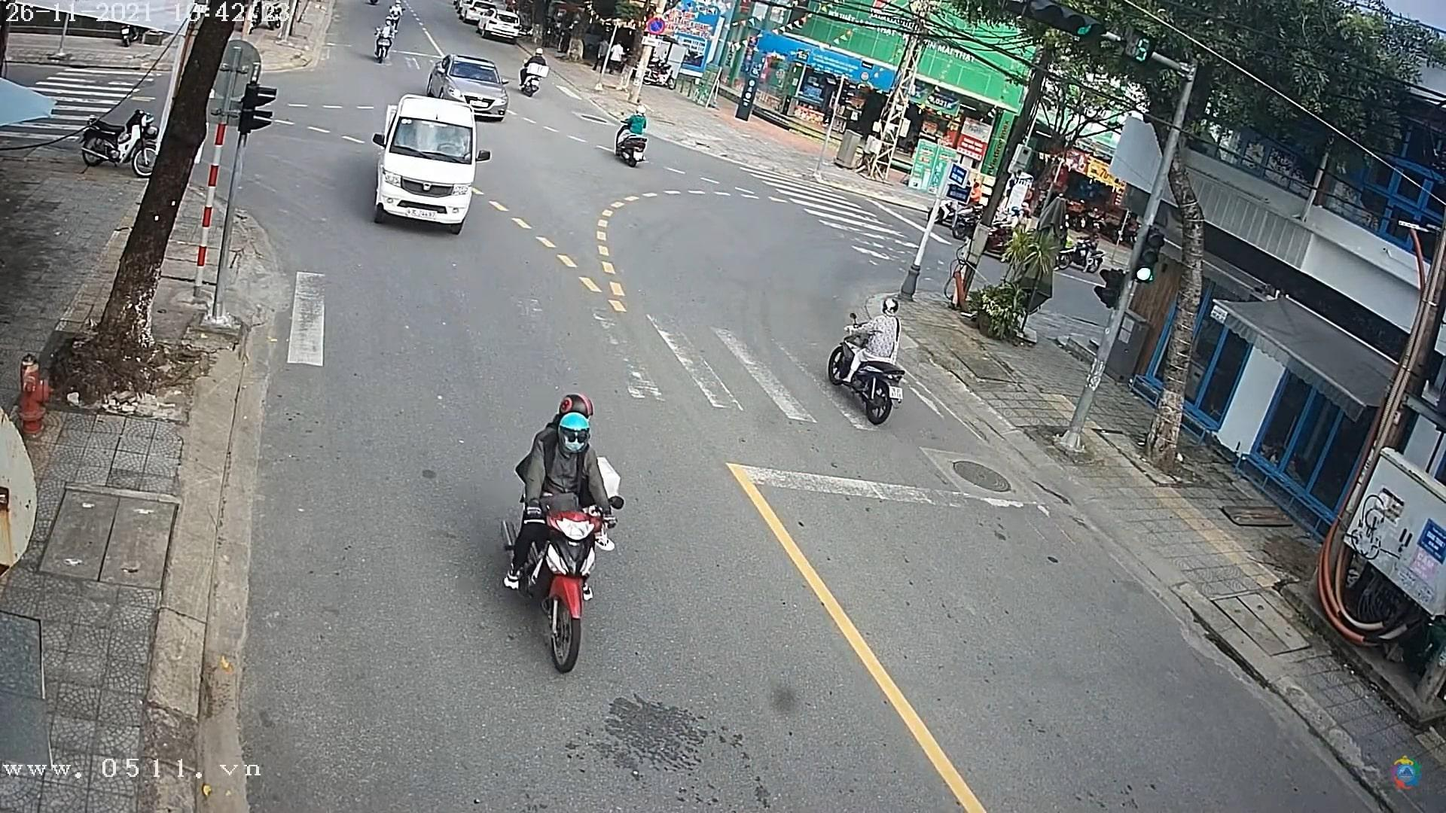car: (422, 54, 510, 120)
motorbike: (502, 465, 631, 678), (829, 306, 912, 430), (613, 136, 648, 168), (366, 29, 396, 66)
truck: (371, 97, 486, 231)
